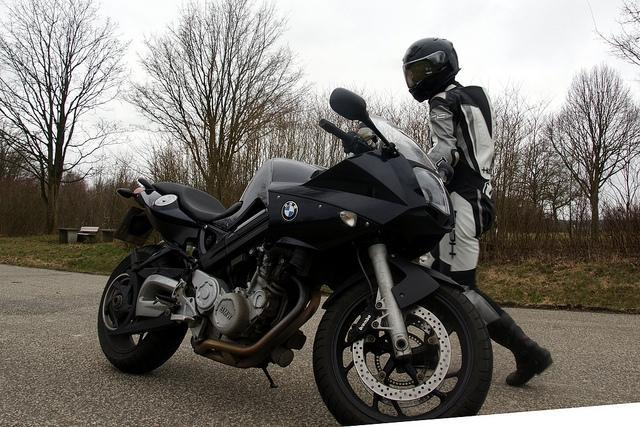motorcycle: (96, 86, 496, 427)
